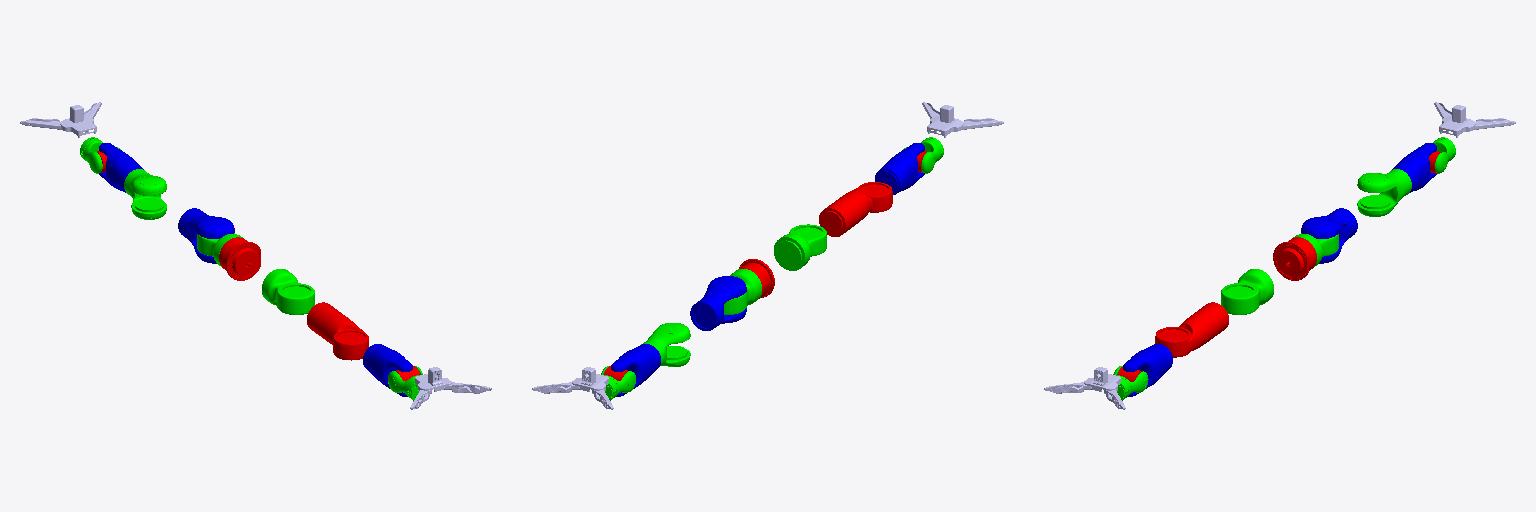
URDF robot description (marvin_dual_m6s_lite_ccs_680_v1):
<?xml version='1.0' encoding='utf-8'?>
<robot name="marvin_dual_m6s_lite_ccs_680_v1">
  <!-- Generated from Marvin M6S-Lite L/R CCS-680 V1.0 vendor URDFs. Arm mounts follow KLMmotion/marvin_pro_moveit marvin_CCS_m6.urdf.xacro. -->
  <link name="world" />
  <link name="base_link">
    <inertial>
      <origin xyz="6.8101e-06 5.7901e-11 0.068902" rpy="0 0 0" />
      <mass value="1.21" />
      <inertia ixx="0.00393" ixy="1.5099e-09" ixz="-3.4422e-07" iyy="0.0047631" iyz="8.9145e-13" izz="0.0034321" />
    </inertial>
  </link>
  <joint name="world_to_base" type="fixed">
    <parent link="world" />
    <child link="base_link" />
    <origin xyz="0 0 0" rpy="0 0 3.141592653589793" />
  </joint>
  <link name="Base_L">
    <inertial>
      <origin xyz="1.1648e-04 -9.321e-05 3.390668e-02" rpy="0 0 0" />
      <mass value="0.8553322" />
      <inertia ixx="6.5490e-04" ixy="-1.5e-07" ixz="7.70e-06" iyy="6.6931e-04" iyz="2.01e-06" izz="8.0985e-04" />
    </inertial>
    <visual>
      <origin xyz="0 0 0" rpy="0 0 0" />
      <geometry>
        <mesh filename="meshes/Base_L.STL" />
      </geometry>
      <material name="">
        <color rgba="1 0 0 1" />
      </material>
    </visual>
    <collision>
      <origin xyz="0 0 0" rpy="0 0 0" />
      <geometry>
        <mesh filename="meshes/Base_L.STL" />
      </geometry>
    </collision>
  </link>
  <link name="Link1_L">
    <inertial>
      <origin xyz="-3.3175e-04 -4.26687e-03 -3.522466e-02" rpy="0 0 0" />
      <mass value="1.537551" />
      <inertia ixx="3.66914e-03" ixy="1.77e-06" ixz="1.342e-05" iyy="3.94529e-03" iyz="-2.3437e-04" izz="1.31774e-03" />
    </inertial>
    <visual>
      <origin xyz="0 0 0" rpy="0 0 0" />
      <geometry>
        <mesh filename="meshes/Link1_L.STL" />
      </geometry>
      <material name="">
        <color rgba="0 1 0 1" />
      </material>
    </visual>
    <collision>
      <origin xyz="0 0 0" rpy="0 0 0" />
      <geometry>
        <mesh filename="meshes/Link1_L.STL" />
      </geometry>
    </collision>
  </link>
  <link name="Link2_L">
    <inertial>
      <origin xyz="2.044e-05 0.0535881 -0.00881535" rpy="0 0 0" />
      <mass value="1.58697" />
      <inertia ixx="0.00651482" ixy="8.49e-06" ixz="1.19e-06" iyy="0.0018653" iyz="0.00075929" izz="0.00613149" />
    </inertial>
    <visual>
      <origin xyz="0 0 0" rpy="0 0 0" />
      <geometry>
        <mesh filename="meshes/Link2_L.STL" />
      </geometry>
      <material name="">
        <color rgba="0 0 1 1" />
      </material>
    </visual>
    <collision>
      <origin xyz="0 0 0" rpy="0 0 0" />
      <geometry>
        <mesh filename="meshes/Link2_L.STL" />
      </geometry>
    </collision>
  </link>
  <link name="Link3_L">
    <inertial>
      <origin xyz="0.00782627 -0.00511917 -0.07354675" rpy="0 0 0" />
      <mass value="1.66375928" />
      <inertia ixx="0.01097251" ixy="-0.00007013" ixz="0.00099536" iyy="0.01136075" iyz="-0.00049180" izz="0.00157281" />
    </inertial>
    <visual>
      <origin xyz="0 0 0" rpy="0 0 0" />
      <geometry>
        <mesh filename="meshes/Link3_L.STL" />
      </geometry>
      <material name="">
        <color rgba="1 0 0 1" />
      </material>
    </visual>
    <collision>
      <origin xyz="0 0 0" rpy="0 0 0" />
      <geometry>
        <mesh filename="meshes/Link3_L.STL" />
      </geometry>
    </collision>
  </link>
  <link name="Link4_L">
    <inertial>
      <origin xyz="0.00840183 -0.038565 -0.0073627" rpy="0 0 0" />
      <mass value="1.03775" />
      <inertia ixx="0.00308966" ixy="-0.00038612" ixz="7.072e-05" iyy="0.00119659" iyz="-0.00032564" izz="0.0029308" />
    </inertial>
    <visual>
      <origin xyz="0 0 0" rpy="0 0 0" />
      <geometry>
        <mesh filename="meshes/Link4_L.STL" />
      </geometry>
      <material name="">
        <color rgba="0 1 0 1" />
      </material>
    </visual>
    <collision>
      <origin xyz="0 0 0" rpy="0 0 0" />
      <geometry>
        <mesh filename="meshes/Link4_L.STL" />
      </geometry>
    </collision>
  </link>
  <link name="Link5_L">
    <inertial>
      <origin xyz="-5.008e-04 2.23923e-03 -9.253416e-02" rpy="0 0 0" />
      <mass value="1.000479" />
      <inertia ixx="2.17057e-03" ixy="-1.142e-05" ixz="-6.68e-06" iyy="1.95131e-03" iyz="3.059e-05" izz="8.4222e-04" />
    </inertial>
    <visual>
      <origin xyz="0 0 0" rpy="0 0 0" />
      <geometry>
        <mesh filename="meshes/Link5_L.STL" />
      </geometry>
      <material name="">
        <color rgba="0 0 1 1" />
      </material>
    </visual>
    <collision>
      <origin xyz="0 0 0" rpy="0 0 0" />
      <geometry>
        <mesh filename="meshes/Link5_L.STL" />
      </geometry>
    </collision>
  </link>
  <link name="Link6_L">
    <inertial>
      <origin xyz="1.8634e-04 2.3824e-04 -5.829e-04" rpy="0 0 0" />
      <mass value="0.3906229" />
      <inertia ixx="1.9943e-04" ixy="1.1800e-06" ixz="-3.0000e-07" iyy="1.7163e-04" iyz="-3.5300e-06" izz="1.8567e-04" />
    </inertial>
    <visual>
      <origin xyz="0 0 0" rpy="0 0 0" />
      <geometry>
        <mesh filename="meshes/Link6_L.STL" />
      </geometry>
      <material name="">
        <color rgba="1 0 0 1" />
      </material>
    </visual>
    <collision>
      <origin xyz="0 0 0" rpy="0 0 0" />
      <geometry>
        <mesh filename="meshes/Link6_L.STL" />
      </geometry>
    </collision>
  </link>
  <link name="Link7_L">
    <inertial>
      <origin xyz="-5.2431e-04 -3.976234e-02 7.27342e-03" rpy="0 0 0" />
      <mass value="0.37939" />
      <inertia ixx="7.0308e-04" ixy="5.97e-06" ixz="7.30e-07" iyy="3.0365e-04" iyz="1.2769e-04" izz="5.8833e-04" />
    </inertial>
    <visual>
      <origin xyz="0 0 0" rpy="0 0 0" />
      <geometry>
        <mesh filename="meshes/Link7_L.STL" />
      </geometry>
      <material name="">
        <color rgba="0 1 0 1" />
      </material>
    </visual>
    <!-- Fixed zero-position gripper visuals copied from the Demo model.  They
         deliberately add no joints: JointTCP_L remains the SDK flange tip. -->
    <visual name="left_gripper_flange_visual">
      <origin xyz="0 -0.087 0" rpy="0 0 -1.5707963267948966" />
      <geometry>
        <mesh filename="meshes/gripper_fflan_Link.STL" />
      </geometry>
      <material name="marvin_gripper_gray">
        <color rgba="0.823529 0.823529 1 1" />
      </material>
    </visual>
    <visual name="left_gripper_base_visual">
      <origin xyz="0.0812152 -0.157861 -0.0000479498" rpy="-1.5707963267948966 0 -1.5707963267948966" />
      <geometry>
        <mesh filename="meshes/gripper_base_link.STL" />
      </geometry>
      <material name="marvin_gripper_gray" />
    </visual>
    <visual name="left_gripper_left_finger_visual">
      <origin xyz="0.0467975 -0.1658 -0.0293383" rpy="0 0 -1.5707963267948966" />
      <geometry>
        <mesh filename="meshes/gripper_fleft_Link.STL" />
      </geometry>
      <material name="marvin_gripper_gray" />
    </visual>
    <visual name="left_gripper_right_finger_visual">
      <origin xyz="0.0467972 -0.1658 0.0293387" rpy="0 0 -1.5707963267948966" />
      <geometry>
        <mesh filename="meshes/gripper_fright_Link.STL" />
      </geometry>
      <material name="marvin_gripper_gray" />
    </visual>
    <collision>
      <origin xyz="0 0 0" rpy="0 0 0" />
      <geometry>
        <mesh filename="meshes/Link7_L.STL" />
      </geometry>
    </collision>
  </link>
  <link name="TCP_Link_L">
    <inertial>
      <origin xyz="0 0 0" rpy="0 0 0" />
      <mass value="0" />
      <inertia ixx="0" ixy="0" ixz="0" iyy="0" iyz="0" izz="0" />
    </inertial>
    <collision>
      <origin xyz="0 0 0" rpy="0 0 0" />
      <geometry>
        <sphere radius="0.001" />
      </geometry>
    </collision>
  </link>
  <!-- Identified arm A/tool-1 payload at the flange. The source diagonal
       inertia [0.001, 0.016, 0.002] was projected to the nearest tensor that
       satisfies the rigid-body triangle inequality. -->
  <link name="Tool_Payload_L">
    <inertial>
      <origin xyz="0.004691 -0.034036 0.084135" rpy="0 0 0" />
      <mass value="0.481" />
      <inertia ixx="0.005333333333" ixy="0" ixz="0" iyy="0.011666666665" iyz="0" izz="0.006333333333" />
    </inertial>
  </link>
  <joint name="ToolPayloadFixed_L" type="fixed">
    <parent link="Link7_L" />
    <child link="Tool_Payload_L" />
    <origin xyz="0 0 0" rpy="0 0 0" />
  </joint>
  <joint name="Joint1_L" type="revolute">
    <origin xyz="0 0 0.1586" rpy="0 0 0" />
    <parent link="Base_L" />
    <child link="Link1_L" />
    <axis xyz="0 0 1" />
    <limit lower="-3.0194" upper="3.0194" effort="35" velocity="3.1416" />
  </joint>
  <joint name="Joint2_L" type="revolute">
    <origin xyz="0 0 0" rpy="1.5708 0 0" />
    <parent link="Link1_L" />
    <child link="Link2_L" />
    <axis xyz="0 0 1" />
    <limit lower="-2.0595" upper="2.0595" effort="35" velocity="3.1416" />
  </joint>
  <joint name="Joint3_L" type="revolute">
    <origin xyz="0 0.329 0" rpy="-1.5708 0 0" />
    <parent link="Link2_L" />
    <child link="Link3_L" />
    <axis xyz="0 0 1" />
    <limit lower="-3.0194" upper="3.0194" effort="18" velocity="3.1416" />
  </joint>
  <joint name="Joint4_L" type="revolute">
    <origin xyz="0.018 0 0" rpy="-1.5708 0 3.1416" />
    <parent link="Link3_L" />
    <child link="Link4_L" />
    <axis xyz="0 0 1" />
    <limit lower="-2.5307" upper="0.7854" effort="18" velocity="3.1416" />
  </joint>
  <joint name="Joint5_L" type="revolute">
    <origin xyz="0.018 -0.264 0" rpy="-1.5708 0 3.1416" />
    <parent link="Link4_L" />
    <child link="Link5_L" />
    <axis xyz="0 0 1" />
    <limit lower="-3.0194" upper="3.0194" effort="5.5" velocity="3.1416" />
  </joint>
  <joint name="Joint6_L" type="revolute">
    <origin xyz="0 0 0" rpy="1.5708 -1.5708 0" />
    <parent link="Link5_L" />
    <child link="Link6_L" />
    <axis xyz="0 0 1" />
    <limit lower="-1.0472" upper="1.0472" effort="5.5" velocity="3.1416" />
  </joint>
  <joint name="Joint7_L" type="revolute">
    <origin xyz="0 0 0" rpy="1.5708 -1.5708 0" />
    <parent link="Link6_L" />
    <child link="Link7_L" />
    <axis xyz="0 0 1" />
    <limit lower="-1.5708" upper="1.5708" effort="5.5" velocity="3.1416" />
  </joint>
  <joint name="JointTCP_L" type="fixed">
    <origin xyz="0 -0.087 0" rpy="1.5708 -1.5708 0" />
    <parent link="Link7_L" />
    <child link="TCP_Link_L" />
    <axis xyz="0 0 0" />
  </joint>
  <joint name="base_to_left_arm" type="fixed">
    <parent link="base_link" />
    <child link="Base_L" />
    <origin xyz="0 0.06 -0.1" rpy="-1.5707963267948966 0 0" />
  </joint>
  <link name="Base_R">
    <inertial>
      <origin xyz="1.1648e-04 -9.321e-05 3.390668e-02" rpy="0 0 0" />
      <mass value="0.8553322" />
      <inertia ixx="6.5490e-04" ixy="-1.5e-07" ixz="7.70e-06" iyy="6.6931e-04" iyz="2.01e-06" izz="8.0985e-04" />
    </inertial>
    <visual>
      <origin xyz="0 0 0" rpy="0 0 0" />
      <geometry>
        <mesh filename="meshes/Base_R.STL" />
      </geometry>
      <material name="">
        <color rgba="1 0 0 1" />
      </material>
    </visual>
    <collision>
      <origin xyz="0 0 0" rpy="0 0 0" />
      <geometry>
        <mesh filename="meshes/Base_R.STL" />
      </geometry>
    </collision>
  </link>
  <link name="Link1_R">
    <inertial>
      <origin xyz="-3.3175e-04 -4.26687e-03 -3.522466e-02" rpy="0 0 0" />
      <mass value="1.537551" />
      <inertia ixx="3.66914e-03" ixy="1.77e-06" ixz="1.342e-05" iyy="3.94529e-03" iyz="-2.3437e-04" izz="1.31774e-03" />
    </inertial>
    <visual>
      <origin xyz="0 0 0" rpy="0 0 0" />
      <geometry>
        <mesh filename="meshes/Link1_R.STL" />
      </geometry>
      <material name="">
        <color rgba="0 1 0 1" />
      </material>
    </visual>
    <collision>
      <origin xyz="0 0 0" rpy="0 0 0" />
      <geometry>
        <mesh filename="meshes/Link1_R.STL" />
      </geometry>
    </collision>
  </link>
  <link name="Link2_R">
    <inertial>
      <origin xyz="2.044e-05 0.0535881 -0.00881535" rpy="0 0 0" />
      <mass value="1.58697" />
      <inertia ixx="0.00651482" ixy="8.49e-06" ixz="1.19e-06" iyy="0.0018653" iyz="0.00075929" izz="0.00613149" />
    </inertial>
    <visual>
      <origin xyz="0 0 0" rpy="0 0 0" />
      <geometry>
        <mesh filename="meshes/Link2_R.STL" />
      </geometry>
      <material name="">
        <color rgba="0 0 1 1" />
      </material>
    </visual>
    <collision>
      <origin xyz="0 0 0" rpy="0 0 0" />
      <geometry>
        <mesh filename="meshes/Link2_R.STL" />
      </geometry>
    </collision>
  </link>
  <link name="Link3_R">
    <inertial>
      <origin xyz="0.00782627 -0.00511917 -0.07354675" rpy="0 0 0" />
      <mass value="1.66375928" />
      <inertia ixx="0.01097251" ixy="-0.00007013" ixz="0.00099536" iyy="0.01136075" iyz="-0.00049180" izz="0.00157281" />
    </inertial>
    <visual>
      <origin xyz="0 0 0" rpy="0 0 0" />
      <geometry>
        <mesh filename="meshes/Link3_R.STL" />
      </geometry>
      <material name="">
        <color rgba="1 0 0 1" />
      </material>
    </visual>
    <collision>
      <origin xyz="0 0 0" rpy="0 0 0" />
      <geometry>
        <mesh filename="meshes/Link3_R.STL" />
      </geometry>
    </collision>
  </link>
  <link name="Link4_R">
    <inertial>
      <origin xyz="0.00840183 -0.038565 -0.0073627" rpy="0 0 0" />
      <mass value="1.03775" />
      <inertia ixx="0.00308966" ixy="-0.00038612" ixz="7.072e-05" iyy="0.00119659" iyz="-0.00032564" izz="0.0029308" />
    </inertial>
    <visual>
      <origin xyz="0 0 0" rpy="0 0 0" />
      <geometry>
        <mesh filename="meshes/Link4_R.STL" />
      </geometry>
      <material name="">
        <color rgba="0 1 0 1" />
      </material>
    </visual>
    <collision>
      <origin xyz="0 0 0" rpy="0 0 0" />
      <geometry>
        <mesh filename="meshes/Link4_R.STL" />
      </geometry>
    </collision>
  </link>
  <link name="Link5_R">
    <inertial>
      <origin xyz="5.008e-04 -2.23923e-03 -9.253416e-02" rpy="0 0 0" />
      <mass value="1.000479" />
      <inertia ixx="2.17057e-03" ixy="-1.142e-05" ixz="6.68e-06" iyy="1.95131e-03" iyz="-3.059e-05" izz="8.4222e-04" />
    </inertial>
    <visual>
      <origin xyz="0 0 0" rpy="0 0 0" />
      <geometry>
        <mesh filename="meshes/Link5_R.STL" />
      </geometry>
      <material name="">
        <color rgba="0 0 1 1" />
      </material>
    </visual>
    <collision>
      <origin xyz="0 0 0" rpy="0 0 0" />
      <geometry>
        <mesh filename="meshes/Link5_R.STL" />
      </geometry>
    </collision>
  </link>
  <link name="Link6_R">
    <inertial>
      <origin xyz="-1.8634e-04 2.3824e-04 5.829e-04" rpy="0 0 0" />
      <mass value="0.3906229" />
      <inertia ixx="1.9943e-04" ixy="-1.1800e-06" ixz="-3.0000e-07" iyy="1.7163e-04" iyz="3.5300e-06" izz="1.8567e-04" />
    </inertial>
    <visual>
      <origin xyz="0 0 0" rpy="0 0 0" />
      <geometry>
        <mesh filename="meshes/Link6_R.STL" />
      </geometry>
      <material name="">
        <color rgba="1 0 0 1" />
      </material>
    </visual>
    <collision>
      <origin xyz="0 0 0" rpy="0 0 0" />
      <geometry>
        <mesh filename="meshes/Link6_R.STL" />
      </geometry>
    </collision>
  </link>
  <link name="Link7_R">
    <inertial>
      <origin xyz="-5.2431e-04 -3.976234e-02 7.27342e-03" rpy="0 0 0" />
      <mass value="0.37939" />
      <inertia ixx="7.0308e-04" ixy="5.97e-06" ixz="7.30e-07" iyy="3.0365e-04" iyz="1.2769e-04" izz="5.8833e-04" />
    </inertial>
    <visual>
      <origin xyz="0 0 0" rpy="0 0 0" />
      <geometry>
        <mesh filename="meshes/Link7_R.STL" />
      </geometry>
      <material name="">
        <color rgba="0 1 0 1" />
      </material>
    </visual>
    <!-- Mirrored fixed zero-position gripper visuals from the Demo model. -->
    <visual name="right_gripper_flange_visual">
      <origin xyz="0 -0.087 0" rpy="-3.141592653589793 0 -1.5707963267948966" />
      <geometry>
        <mesh filename="meshes/gripper_fflan_Link.STL" />
      </geometry>
      <material name="marvin_gripper_gray" />
    </visual>
    <visual name="right_gripper_base_visual">
      <origin xyz="-0.0812147 -0.157862 0.0000479498" rpy="1.5707963267948966 0 -1.5707963267948966" />
      <geometry>
        <mesh filename="meshes/gripper_base_link.STL" />
      </geometry>
      <material name="marvin_gripper_gray" />
    </visual>
    <visual name="right_gripper_left_finger_visual">
      <origin xyz="-0.0467969 -0.165801 0.0293383" rpy="-3.141592653589793 0 -1.5707963267948966" />
      <geometry>
        <mesh filename="meshes/gripper_fleft_Link.STL" />
      </geometry>
      <material name="marvin_gripper_gray" />
    </visual>
    <visual name="right_gripper_right_finger_visual">
      <origin xyz="-0.0467967 -0.165801 -0.0293387" rpy="-3.141592653589793 0 -1.5707963267948966" />
      <geometry>
        <mesh filename="meshes/gripper_fright_Link.STL" />
      </geometry>
      <material name="marvin_gripper_gray" />
    </visual>
    <collision>
      <origin xyz="0 0 0" rpy="0 0 0" />
      <geometry>
        <mesh filename="meshes/Link7_R.STL" />
      </geometry>
    </collision>
  </link>
  <link name="TCP_Link_R">
    <inertial>
      <origin xyz="0 0 0" rpy="0 0 0" />
      <mass value="0" />
      <inertia ixx="0" ixy="0" ixz="0" iyy="0" iyz="0" izz="0" />
    </inertial>
    <collision>
      <origin xyz="0 0 0" rpy="0 0 0" />
      <geometry>
        <sphere radius="0.001" />
      </geometry>
    </collision>
  </link>
  <!-- Identified arm B/tool-1 payload at the flange. -->
  <link name="Tool_Payload_R">
    <inertial>
      <origin xyz="-0.000776 0.029685 0.10105" rpy="0 0 0" />
      <mass value="0.459" />
      <inertia ixx="0.006999999999" ixy="0" ixz="0" iyy="0.006" iyz="0" izz="0.001" />
    </inertial>
  </link>
  <joint name="ToolPayloadFixed_R" type="fixed">
    <parent link="Link7_R" />
    <child link="Tool_Payload_R" />
    <origin xyz="0 0 0" rpy="0 0 0" />
  </joint>
  <joint name="Joint1_R" type="revolute">
    <origin xyz="0 0 0.1586" rpy="0 0 0" />
    <parent link="Base_R" />
    <child link="Link1_R" />
    <axis xyz="0 0 1" />
    <limit lower="-3.0194" upper="3.0194" effort="35" velocity="3.1416" />
  </joint>
  <joint name="Joint2_R" type="revolute">
    <origin xyz="0 0 0" rpy="1.5708 0 0" />
    <parent link="Link1_R" />
    <child link="Link2_R" />
    <axis xyz="0 0 1" />
    <limit lower="-2.0595" upper="2.0595" effort="35" velocity="3.1416" />
  </joint>
  <joint name="Joint3_R" type="revolute">
    <origin xyz="0 0.329 0" rpy="-1.5708 0 0" />
    <parent link="Link2_R" />
    <child link="Link3_R" />
    <axis xyz="0 0 1" />
    <limit lower="-3.0194" upper="3.0194" effort="18" velocity="3.1416" />
  </joint>
  <joint name="Joint4_R" type="revolute">
    <origin xyz="0.018 0 0" rpy="-1.5708 0 3.1416" />
    <parent link="Link3_R" />
    <child link="Link4_R" />
    <axis xyz="0 0 1" />
    <limit lower="-2.5307" upper="0.7854" effort="18" velocity="3.1416" />
  </joint>
  <joint name="Joint5_R" type="revolute">
    <origin xyz="0.018 -0.264 0" rpy="-1.5708 0 3.1416" />
    <parent link="Link4_R" />
    <child link="Link5_R" />
    <axis xyz="0 0 1" />
    <limit lower="-3.0194" upper="3.0194" effort="5.5" velocity="3.1416" />
  </joint>
  <joint name="Joint6_R" type="revolute">
    <origin xyz="0 0 0" rpy="1.5708 -1.5708 0" />
    <parent link="Link5_R" />
    <child link="Link6_R" />
    <axis xyz="0 0 1" />
    <limit lower="-1.0472" upper="1.0472" effort="5.5" velocity="3.1416" />
  </joint>
  <joint name="Joint7_R" type="revolute">
    <origin xyz="0 0 0" rpy="1.5708 -1.5708 0" />
    <parent link="Link6_R" />
    <child link="Link7_R" />
    <axis xyz="0 0 1" />
    <limit lower="-1.5708" upper="1.5708" effort="5.5" velocity="3.1416" />
  </joint>
  <joint name="JointTCP_R" type="fixed">
    <origin xyz="0 -0.087 0" rpy="1.5708 -1.5708 0" />
    <parent link="Link7_R" />
    <child link="TCP_Link_R" />
    <axis xyz="0 0 0" />
  </joint>
  <joint name="base_to_right_arm" type="fixed">
    <parent link="base_link" />
    <child link="Base_R" />
    <origin xyz="0 -0.06 -0.1" rpy="1.5707963267948966 0 0" />
  </joint>
  <link name="left_tcp" />
  <joint name="left_tcp_joint" type="fixed">
    <parent link="TCP_Link_L" />
    <child link="left_tcp" />
    <origin xyz="0 0 0" rpy="0 0 0" />
  </joint>
  <link name="right_tcp" />
  <joint name="right_tcp_joint" type="fixed">
    <parent link="TCP_Link_R" />
    <child link="right_tcp" />
    <origin xyz="0 0 0" rpy="0 0 0" />
  </joint>
</robot>

--- Render facts (derived) ---
Views: 3 orthographic renders of the robot side by side, from view 1: azimuth 30°, elevation 25°; view 2: azimuth 150°, elevation 25°; view 3: azimuth 330°, elevation 25°.
Robot: marvin_dual_m6s_lite_ccs_680_v1 — 24 links, 23 joints (14 revolute, 9 fixed); root link world; default pose: every joint at zero.
Links seen in each view (by area): view 1: Link3_L, Link1_L, Link7_R, Link7_L, Link4_R, Link2_R, Base_R, Link5_L, Link5_R, Link1_R; view 2: Link3_L, Link2_R, Link1_L, Link7_L, Link7_R, Link5_L, Link4_R, Link5_R, Link1_R, Base_R; view 3: Link3_L, Link4_R, Link1_L, Link7_R, Link7_L, Base_R, Link2_R, Link5_L, Link5_R, Link1_R.
Boxes of the visible links, bbox=[...] form: Link3_L: bbox=[307, 302, 368, 360]; Link1_L: bbox=[262, 269, 314, 314]; Link7_R: bbox=[20, 102, 120, 173]; Link7_L: bbox=[388, 366, 491, 409]; Link4_R: bbox=[124, 169, 166, 219]; Link2_R: bbox=[178, 208, 234, 263]; Base_R: bbox=[219, 237, 260, 280]; Link5_L: bbox=[363, 344, 412, 396]; Link5_R: bbox=[99, 143, 143, 192]; Link1_R: bbox=[197, 233, 242, 266]; Link3_L: bbox=[819, 182, 892, 236]; Link2_R: bbox=[690, 276, 746, 330]; Link1_L: bbox=[774, 224, 826, 270]; Link7_L: bbox=[903, 102, 1003, 173]; Link7_R: bbox=[532, 366, 635, 409]; Link5_L: bbox=[875, 143, 924, 194]; Link4_R: bbox=[641, 323, 690, 366]; Link5_R: bbox=[611, 344, 660, 396]; Link1_R: bbox=[724, 269, 761, 314]; Base_R: bbox=[739, 259, 774, 298]; Link3_L: bbox=[1155, 302, 1228, 357]; Link4_R: bbox=[1357, 169, 1411, 216]; Link1_L: bbox=[1221, 269, 1273, 314]; Link7_R: bbox=[1417, 102, 1515, 173]; Link7_L: bbox=[1044, 366, 1148, 409]; Base_R: bbox=[1273, 237, 1316, 280]; Link2_R: bbox=[1301, 208, 1357, 263]; Link5_L: bbox=[1123, 344, 1172, 396]; Link5_R: bbox=[1392, 143, 1436, 192]; Link1_R: bbox=[1293, 233, 1338, 266].
Bounding box of the posed robot: 0.2542 × 2.13 × 0.1537 m (x, y, z).
18 mesh visuals loaded from 20 distinct referenced files (15 binary STL); not drawn: 6 (reference not matched to a file when rendering).
